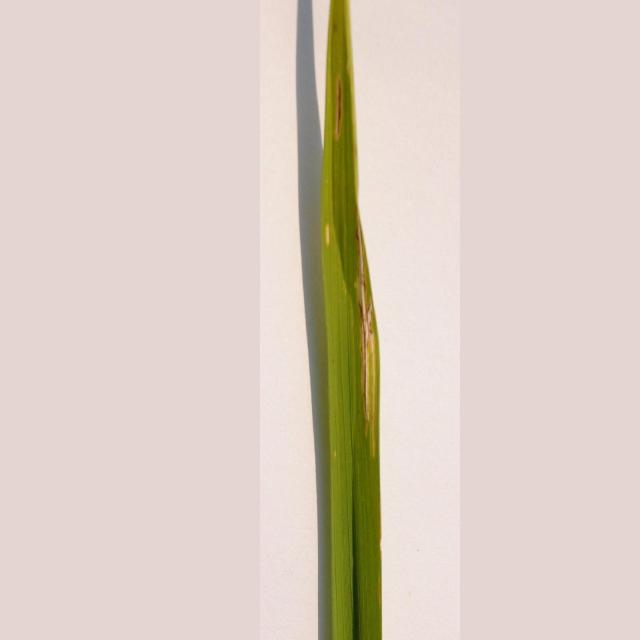Bacterial leaf blight: (256, 2, 462, 640)
